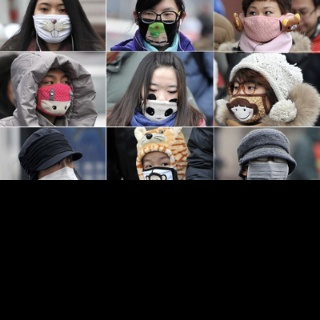with_mask: (30, 2, 72, 44), (138, 5, 180, 46), (228, 77, 268, 120), (36, 72, 74, 116), (140, 80, 180, 118), (245, 5, 280, 42), (244, 156, 289, 180), (39, 156, 74, 180), (142, 154, 174, 180)
